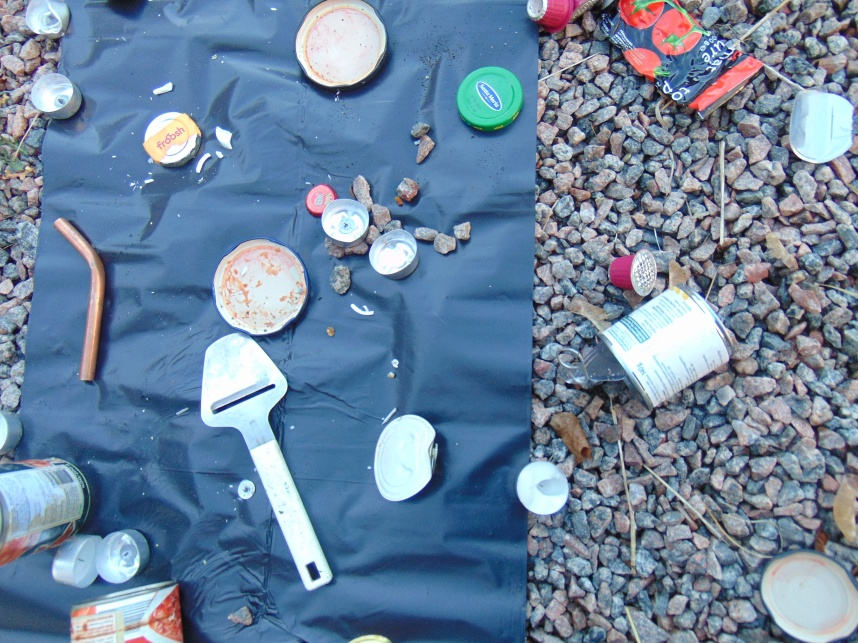metal: (606, 1, 765, 127), (196, 330, 292, 453), (756, 546, 858, 643), (51, 217, 110, 383), (210, 237, 310, 334), (291, 1, 386, 95), (372, 416, 440, 501), (783, 89, 856, 164), (456, 67, 522, 134), (306, 182, 369, 244), (512, 460, 569, 516), (144, 112, 200, 167), (98, 524, 151, 582), (28, 73, 86, 122), (365, 227, 418, 279), (605, 250, 661, 298), (52, 531, 100, 587), (525, 1, 575, 36), (23, 1, 70, 38)
metal_can: (598, 284, 733, 412), (1, 456, 92, 564), (67, 578, 183, 643)
